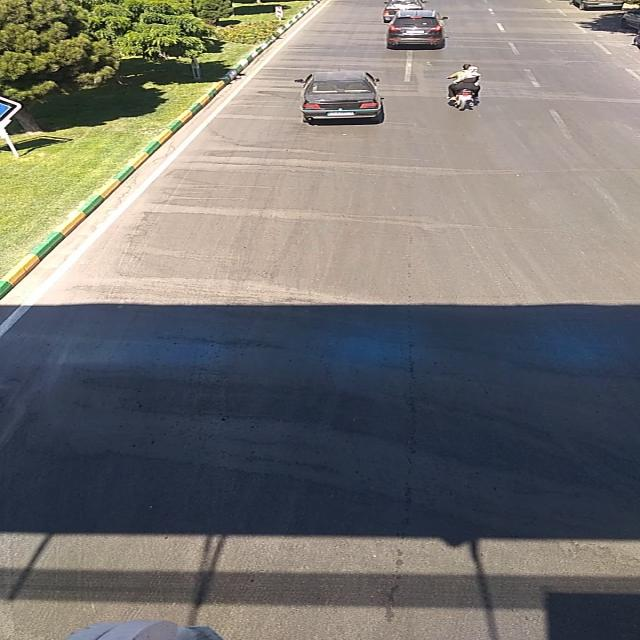car: (384, 10, 450, 48), (377, 1, 427, 20)
motor: (299, 70, 383, 124), (444, 62, 484, 111)
